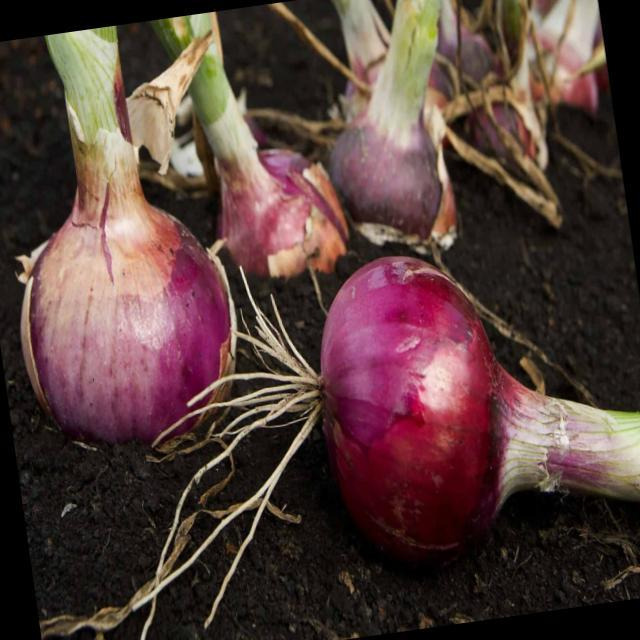ONIONS: (301, 220, 640, 555), (0, 165, 248, 419)
